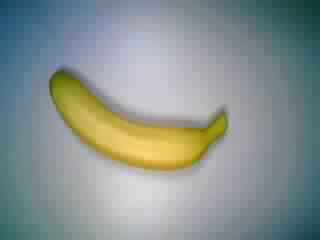banana: (40, 63, 235, 179)
